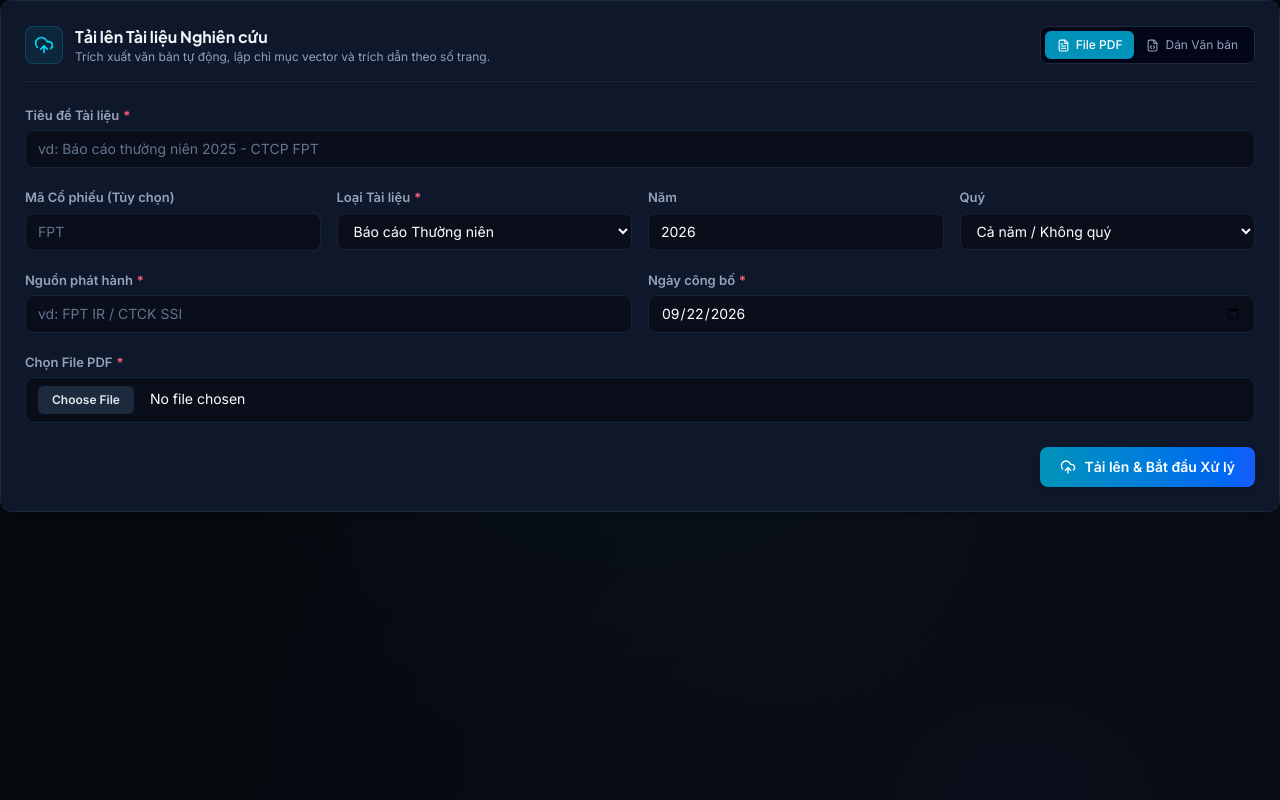
Test: Research Components (User Story 1) › DocumentUpload Component › shows error when submitting without required fields
Click the button "Tải lên & Bắt đầu Xử lý". click: [1148, 467]
box: [1040,447,1255,487]
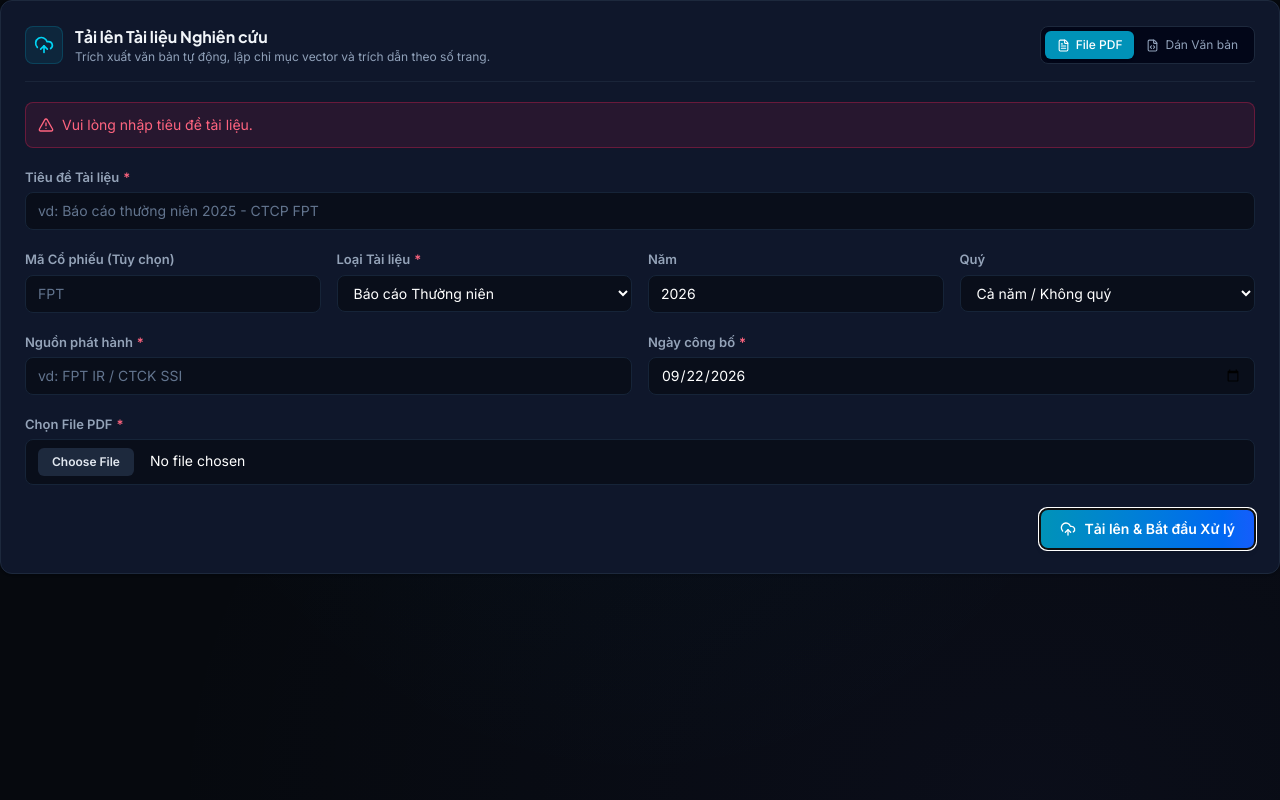
Now the text "Vui lòng nhập tiêu đề tài liệu." is shown, box [62,115,253,135]
